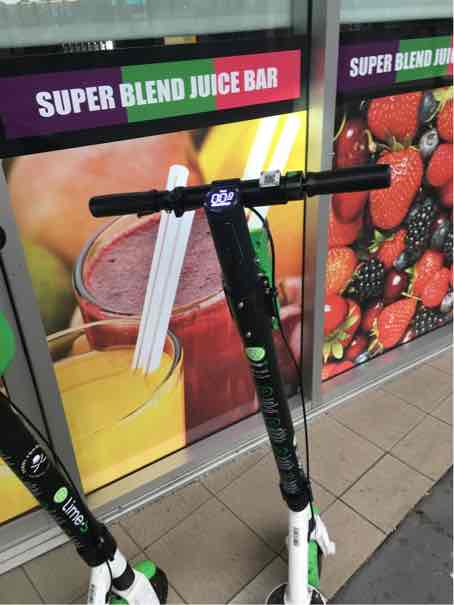scooter: (81, 146, 402, 599)
